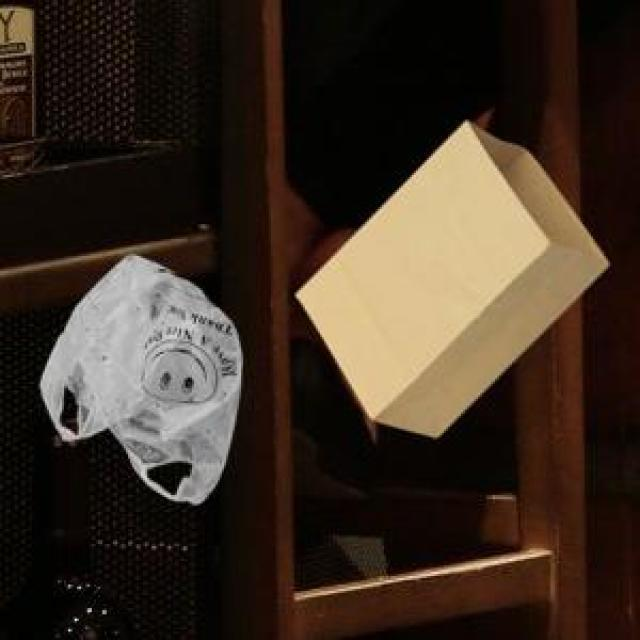paper: (292, 117, 604, 433)
